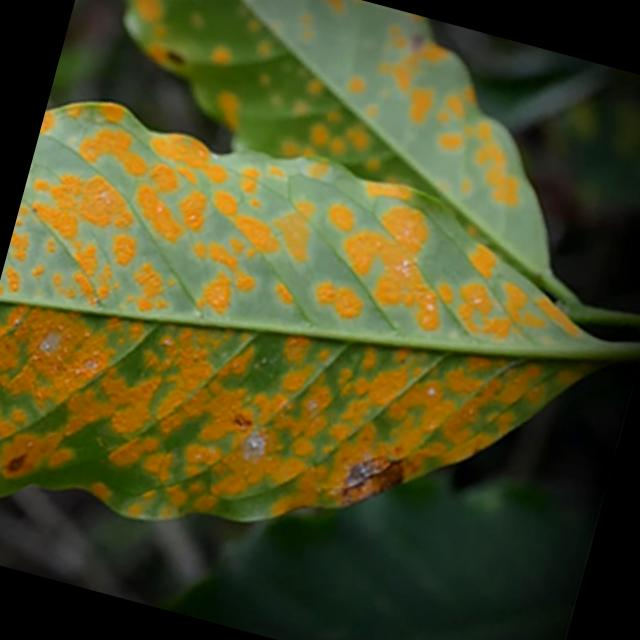leaf_rust: (0, 102, 640, 520), (125, 0, 576, 303)
